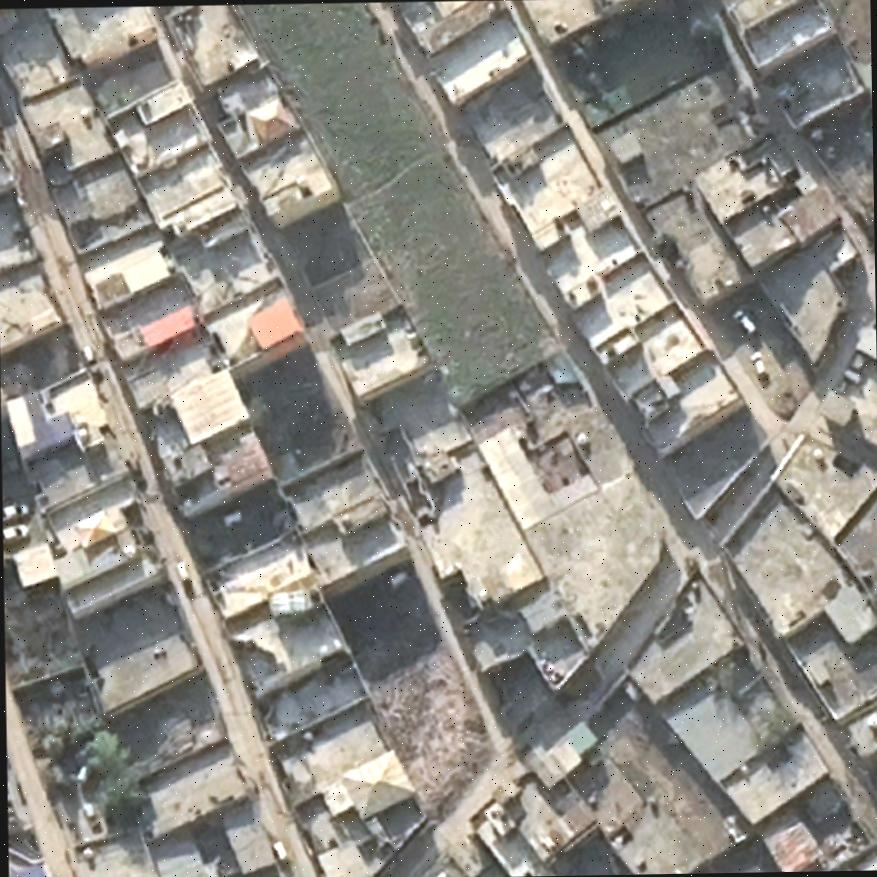Solarpanel: (264, 584, 314, 617)
